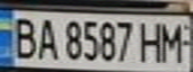5: (78, 17, 100, 62)
7: (115, 18, 139, 63)
8: (60, 17, 84, 62), (97, 18, 118, 63)
A: (33, 15, 60, 61)
B: (6, 13, 39, 60)
H: (136, 18, 166, 63)
M: (157, 19, 190, 63)
